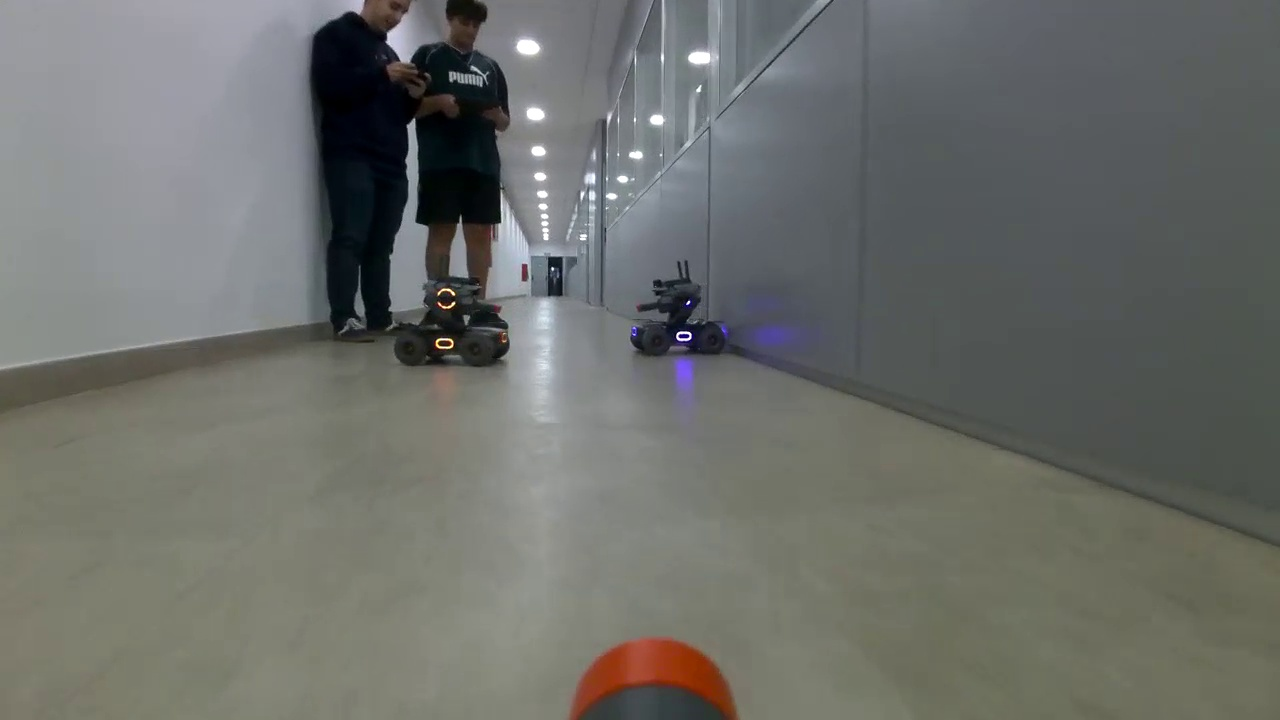robot: (392, 271, 512, 368), (628, 277, 728, 356)
